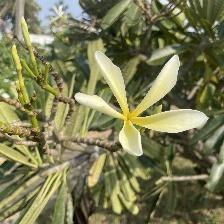champaka: (74, 46, 212, 161)
